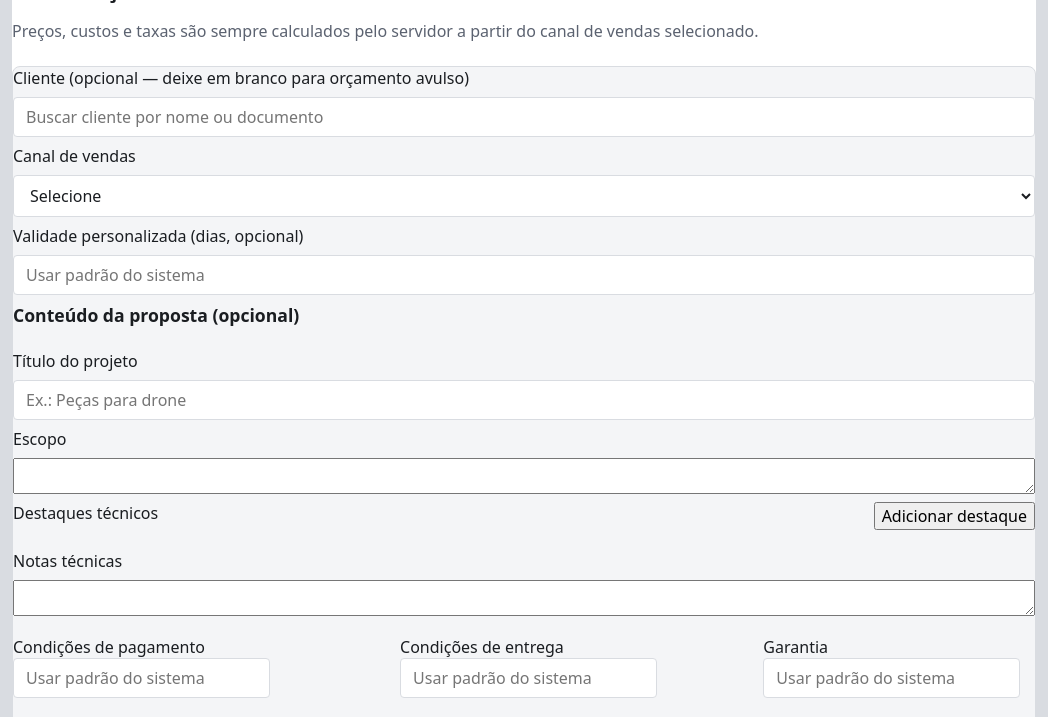
it: QuoteNewPage › shows a specific message for a known business error code instead of the generic one
Select "Venda Direta" in the dropdown labelled "Canal de vendas" at (524, 196), box [13,175,1035,217]
(page scrolled)
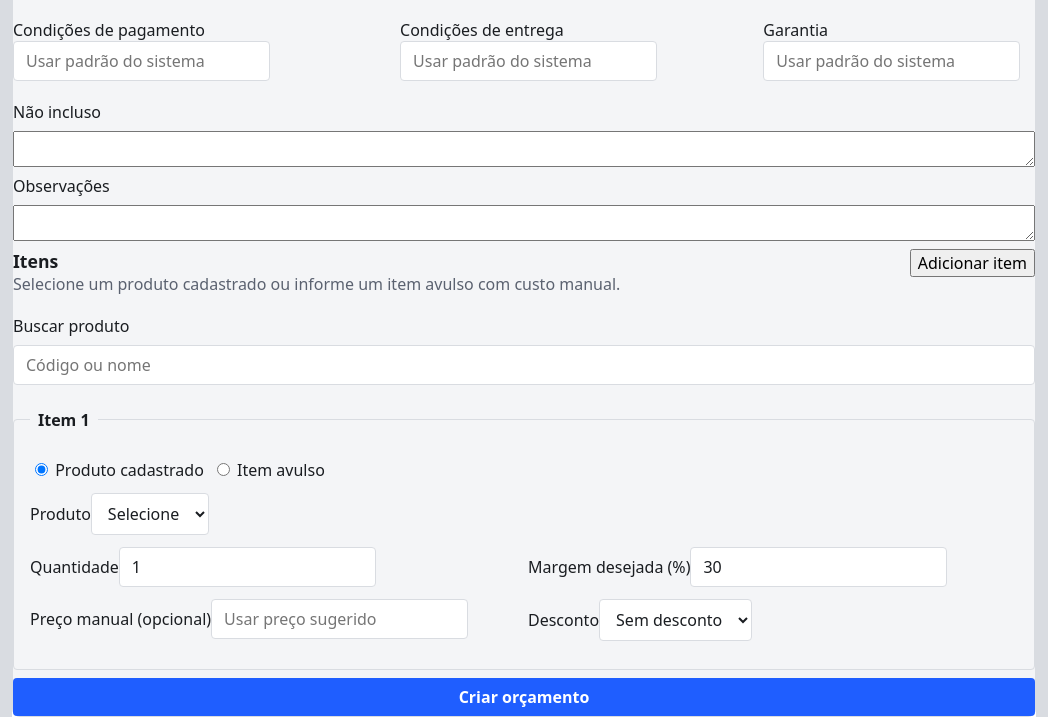
Click the radio button labelled "Item avulso".
click(223, 469)  # box [217,463,230,476]
(page scrolled)
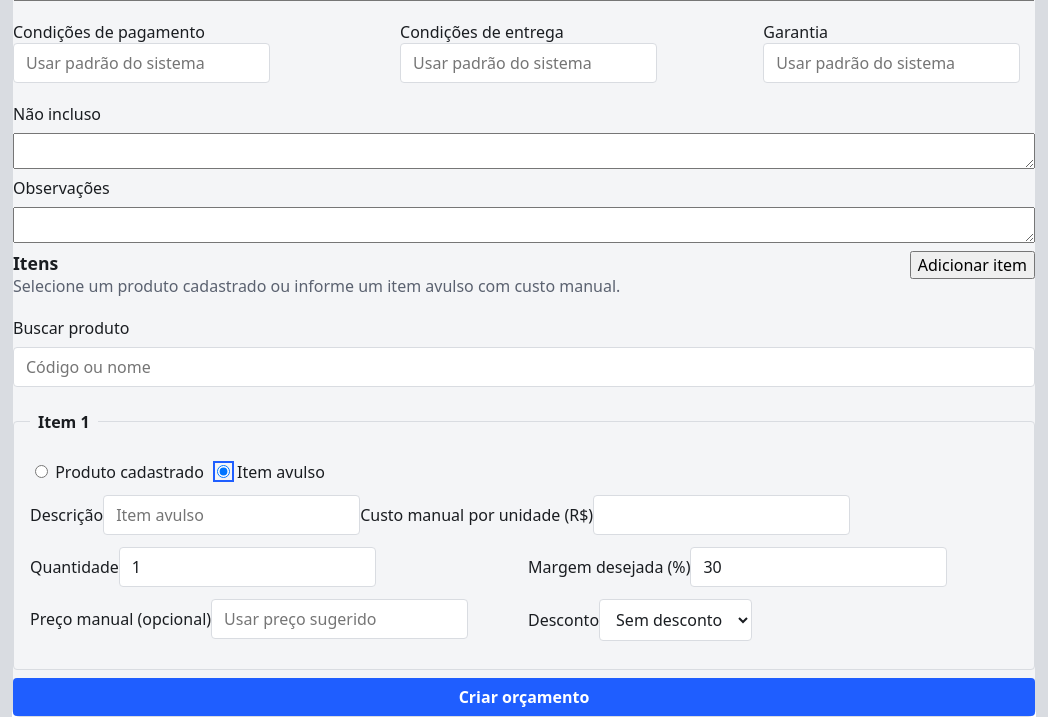
Type "X" into the field with placeholder "Item avulso".
click(232, 515); type("X")  # box [103,495,360,535]
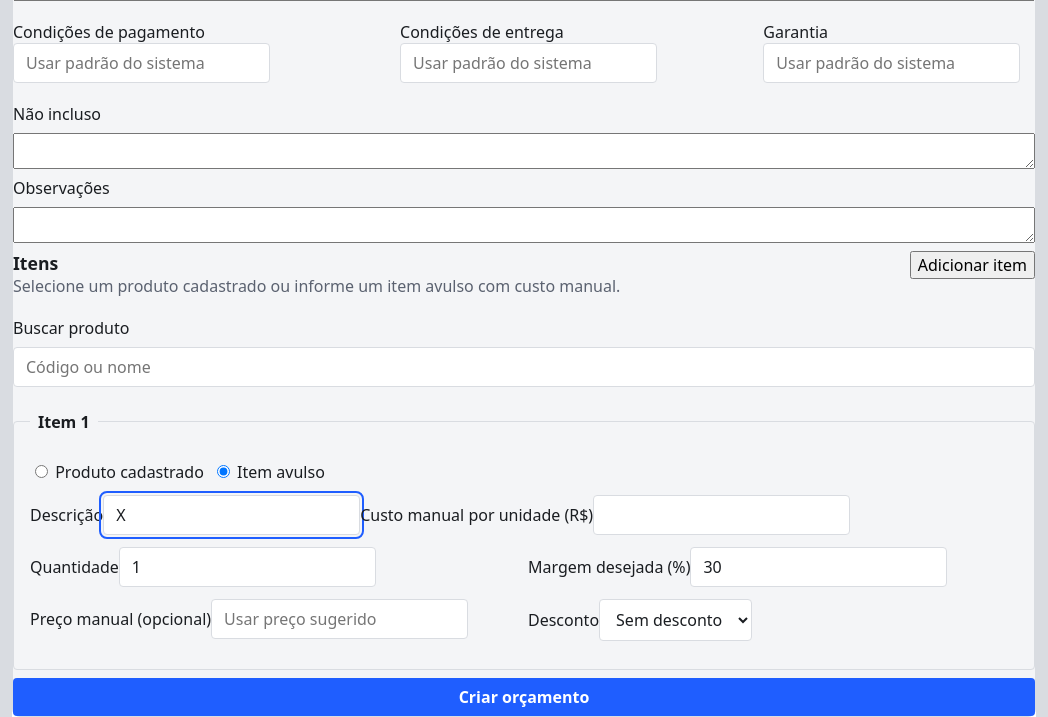
Type "10" into the number field labelled "Custo manual por unidade (R$)".
click(722, 515); type("10")  # box [593,495,850,535]
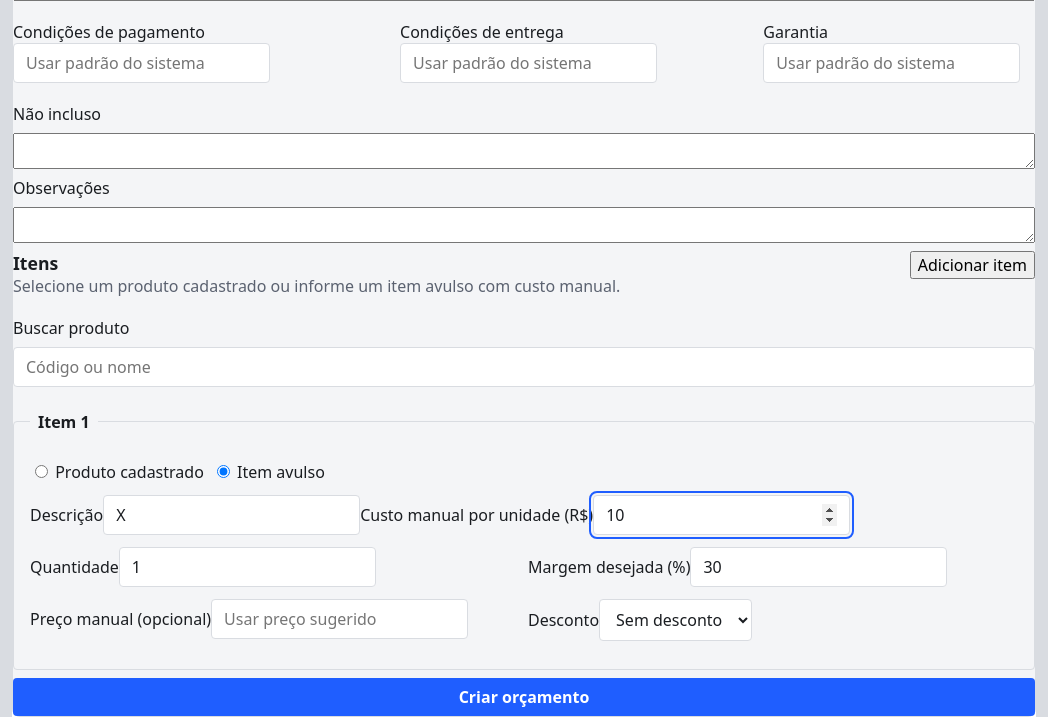
Click the button "Criar orçamento".
click(524, 697)  # box [13,678,1035,716]
(page scrolled)
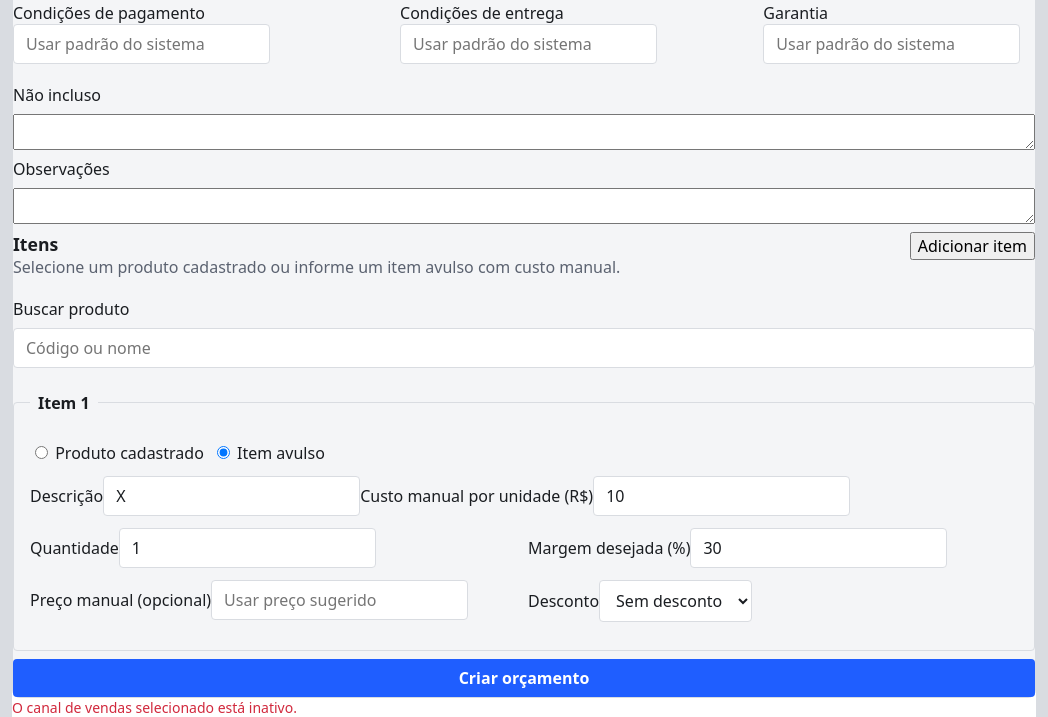
Expected: the message reads "O canal de vendas selecionado está inativo.", [12,698,297,716]
